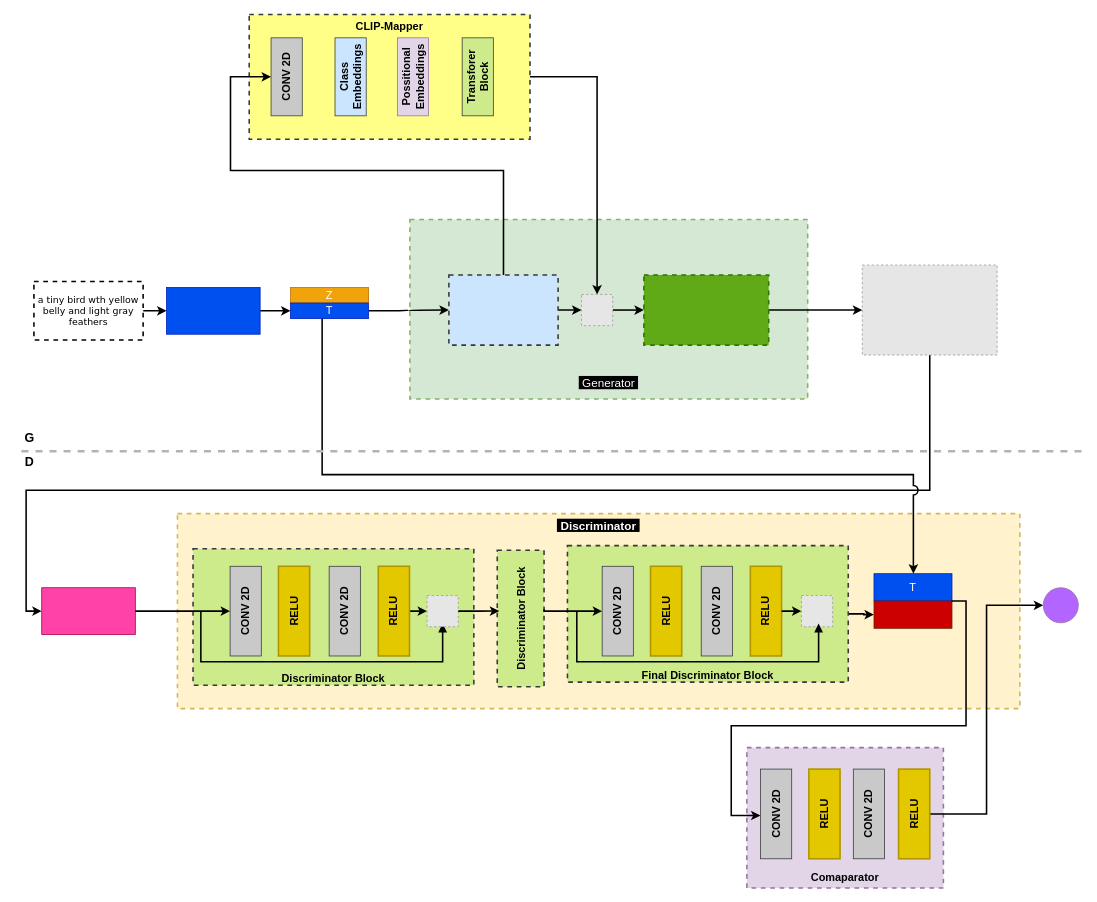
Image size: 1097x902. Some labels were removed from this diagram. Grey dashed boxes stand in for pictures. The centre of each missing label's shape, as x and y in pixels:
CLIP Image Encoder: the point at 88,611
CLIP Text Encoder: the point at 213,310
CLIP-Adapter: the point at 503,310
Extracted Features: the point at 912,614
Image Generator: the point at 706,310
